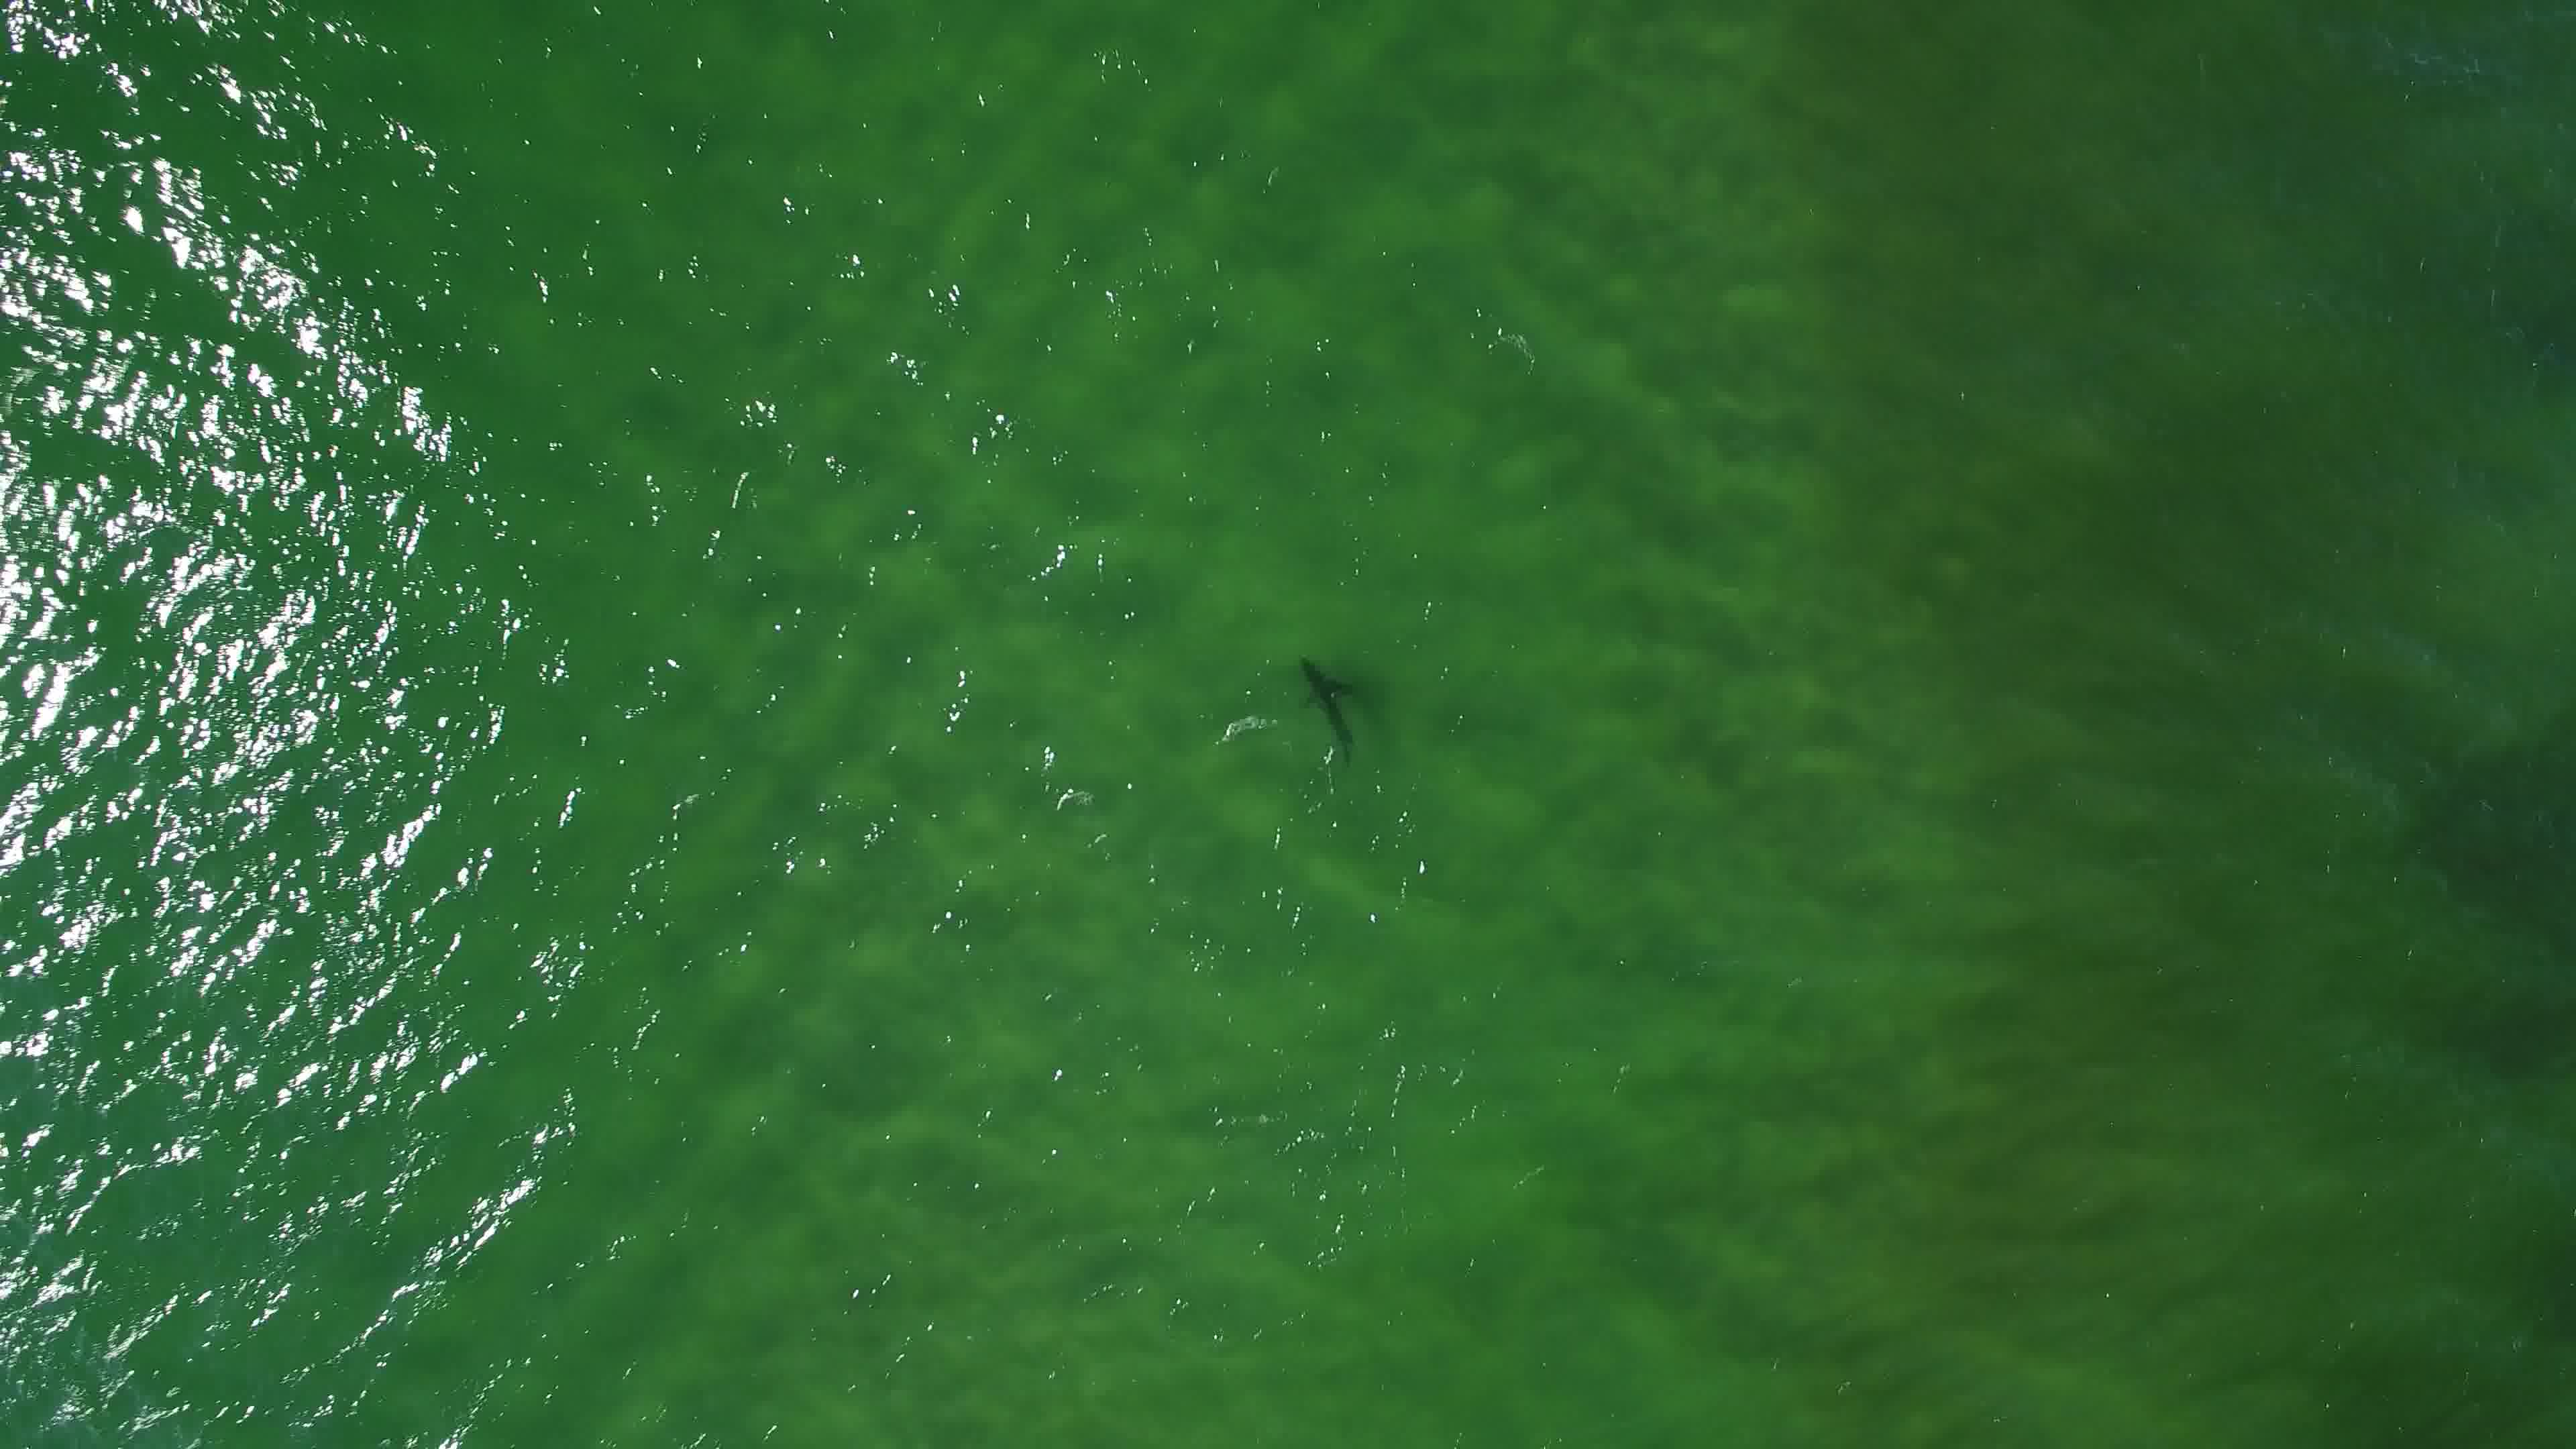shark: (1274, 649, 1366, 766)
